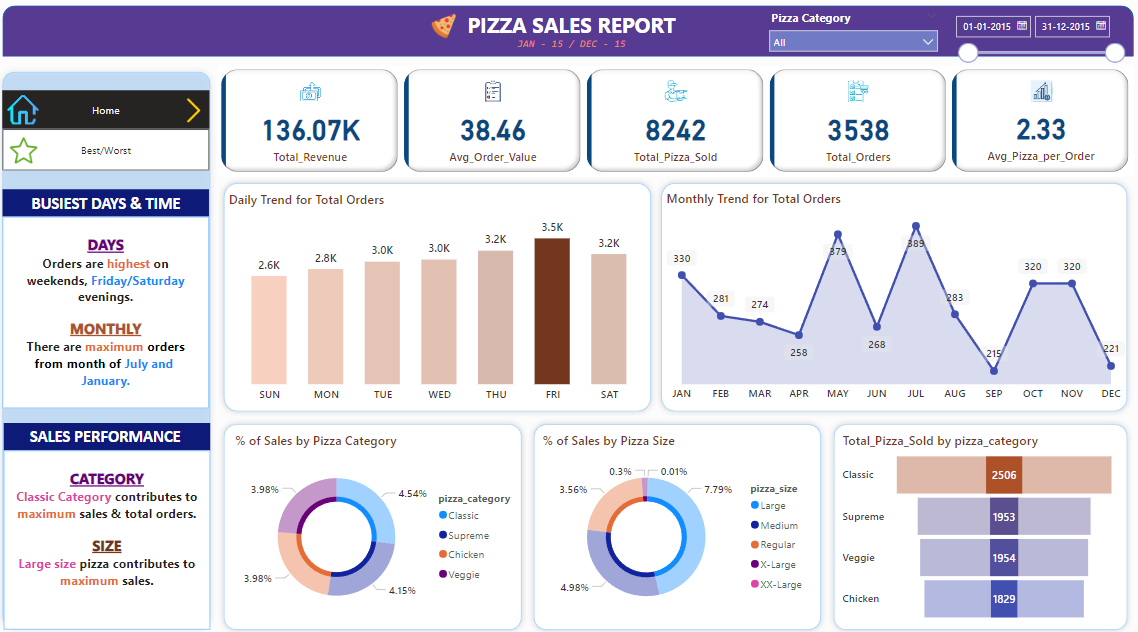

This screenshot's page, from the dashboard's own definition file:
{"tool":"powerbi","page":{"name":"Home","canvas":[1500,820],"ordinal":0},"visuals":[{"type":"shape","box":[15,87.2,283.4,733.1],"z":0},{"type":"cardVisual","fields":{"Data":["pizza_db pizza_sales.Total_Revenue","pizza_db pizza_sales.Avg_Order_Value","pizza_db pizza_sales.Total_Pizza_Sold","pizza_db pizza_sales.Total_Orders","pizza_db pizza_sales.Avg_Pizza_per_Order"]},"box":[298.6,87.1,1178.6,142.9],"z":1000},{"type":"shape","box":[30,10,1447.1,65.7],"z":2000},{"type":"textbox","box":[610,11.4,290,45.7],"z":3000},{"type":"textbox","box":[662.2,43.6,184,34.1],"z":4000},{"type":"image","box":[568.6,14.3,41.4,42.9],"z":5000},{"type":"shape","box":[298.6,230,565.7,310],"z":6000},{"type":"columnChart","title":"Daily Trend for Total Orders","fields":{"Category":["pizza_db pizza_sales.Order_Day"],"Y":["pizza_db pizza_sales.Total_Orders"]},"box":[308.6,247.1,552.9,281.4],"z":7000},{"type":"shape","box":[861.4,230,615.7,310],"z":8000},{"type":"areaChart","title":"Monthly Trend for Total Orders","fields":{"Y":["pizza_db pizza_sales.Total_Orders"],"Category":["pizza_db pizza_sales.Order_Month"]},"box":[872.1,246.6,602.3,282.1],"z":9000},{"type":"shape","box":[298.4,539.6,399.3,280.7],"z":10000},{"type":"shape","box":[697.7,539.6,385.6,280.7],"z":11000},{"type":"shape","box":[1083.3,539.6,393.8,280.7],"z":12000},{"type":"donutChart","title":"% of Sales by Pizza Category","fields":{"Category":["pizza_db pizza_sales.pizza_category"],"Y":["pizza_db pizza_sales.Total_Revenue"]},"box":[317.5,557.3,380.2,249.4],"z":13000},{"type":"donutChart","title":"% of Sales by Pizza Size","fields":{"Y":["pizza_db pizza_sales.Total_Revenue"],"Category":["pizza_db pizza_sales.pizza_size"]},"box":[712.7,557.3,357,249.4],"z":14000},{"type":"funnel","fields":{"Category":["pizza_db pizza_sales.pizza_category"],"Y":["pizza_db pizza_sales.Total_Pizza_Sold"]},"box":[1098.3,557.3,361.1,249.4],"z":15000},{"type":"textbox","box":[23.2,246.6,265.7,35.4],"z":16000},{"type":"textbox","box":[23.2,282.1,265.7,246.6],"z":17000},{"type":"textbox","box":[24.5,546.4,265.7,35.4],"z":18000},{"type":"textbox","box":[24.5,581.9,265.7,230.3],"z":19000},{"type":"slicer","fields":{"Values":["pizza_db pizza_sales.pizza_category"]},"box":[998.8,9.5,237.1,65.4],"z":20000},{"type":"slicer","fields":{"Values":["pizza_db pizza_sales.order_date"]},"box":[1235.9,12.3,238.5,74.9],"z":21000},{"type":"pageNavigator","box":[22.5,119,266.9,49.9],"z":22000},{"type":"pageNavigator","box":[22.5,168.8,266.9,53.1],"z":23000},{"type":"image","box":[247.6,123.8,41.8,41.8],"z":24000},{"type":"image","box":[22.5,119,53.1,49.9],"z":24001},{"type":"image","box":[24.1,173.7,51.5,45],"z":24002}]}

Visuals, with their boxes in screenshot pixels (x1, y1, x2, y2), scaled from the page's 1500x820 canvas onto the 1138x632 screenshot:
shape: region(11, 67, 226, 631)
cardVisual - pizza_db pizza_sales.Total_Revenue x pizza_db pizza_sales.Avg_Order_Value: region(227, 67, 1121, 177)
shape: region(23, 8, 1121, 58)
textbox: region(463, 9, 683, 44)
textbox: region(502, 34, 642, 60)
image: region(431, 11, 463, 44)
shape: region(227, 177, 656, 416)
"Daily Trend for Total Orders" columnChart: region(234, 190, 654, 407)
shape: region(654, 177, 1121, 416)
"Monthly Trend for Total Orders" areaChart: region(662, 190, 1119, 407)
shape: region(226, 416, 529, 631)
shape: region(529, 416, 822, 631)
shape: region(822, 416, 1121, 631)
"% of Sales by Pizza Category" donutChart: region(241, 430, 529, 622)
"% of Sales by Pizza Size" donutChart: region(541, 430, 812, 622)
funnel - pizza_db pizza_sales.pizza_category x pizza_db pizza_sales.Total_Pizza_Sold: region(833, 430, 1107, 622)
textbox: region(18, 190, 219, 217)
textbox: region(18, 217, 219, 407)
textbox: region(19, 421, 220, 448)
textbox: region(19, 448, 220, 626)
slicer - pizza_db pizza_sales.pizza_category: region(758, 7, 938, 58)
slicer - pizza_db pizza_sales.order_date: region(938, 9, 1119, 67)
pageNavigator: region(17, 92, 220, 130)
pageNavigator: region(17, 130, 220, 171)
image: region(188, 95, 220, 128)
image: region(17, 92, 57, 130)
image: region(18, 134, 57, 169)
